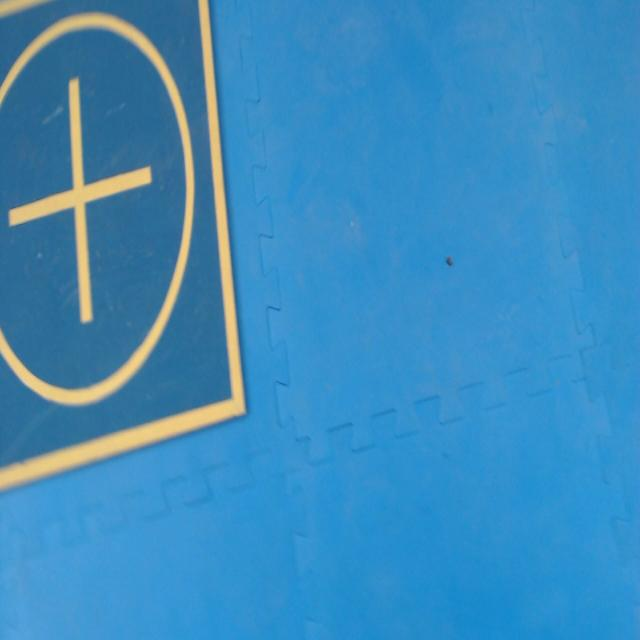base_pouso: (1, 1, 247, 489)
